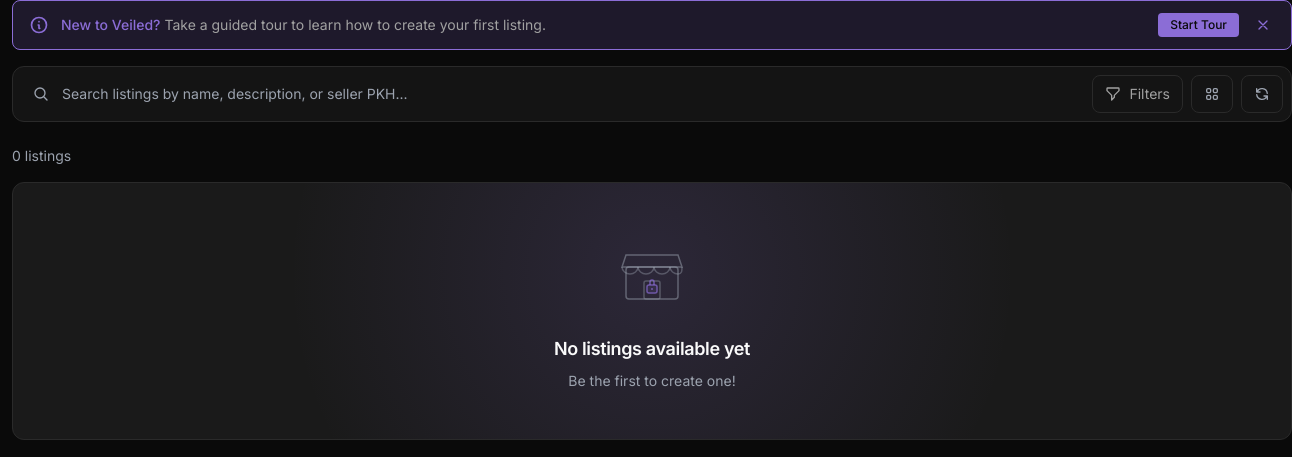
Test: MarketplaceTab › dismisses tutorial banner on X click (session only)
expect the text "New to Veiled?" is shown: met, box [61,16,160,33]
Click the button named "Dismiss". click: (1263, 25)
box: [1251,13,1275,37]
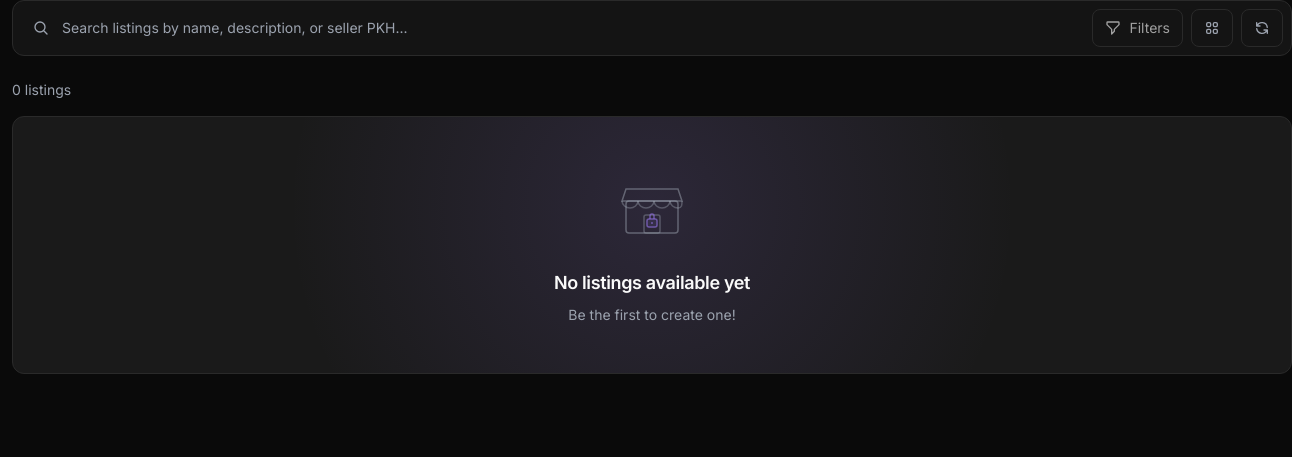
expect the text "New to Veiled" is gone: met
